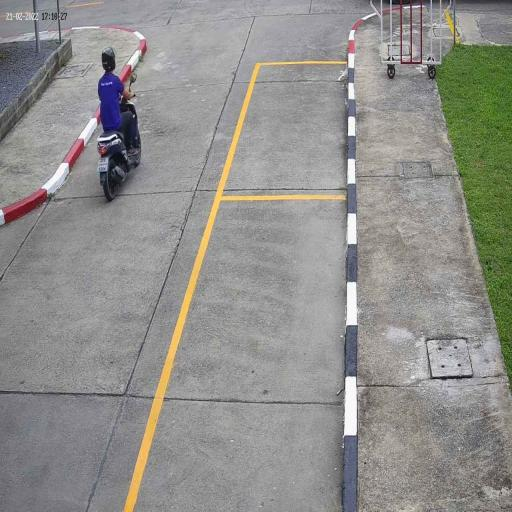motorcycle: (97, 90, 142, 200)
